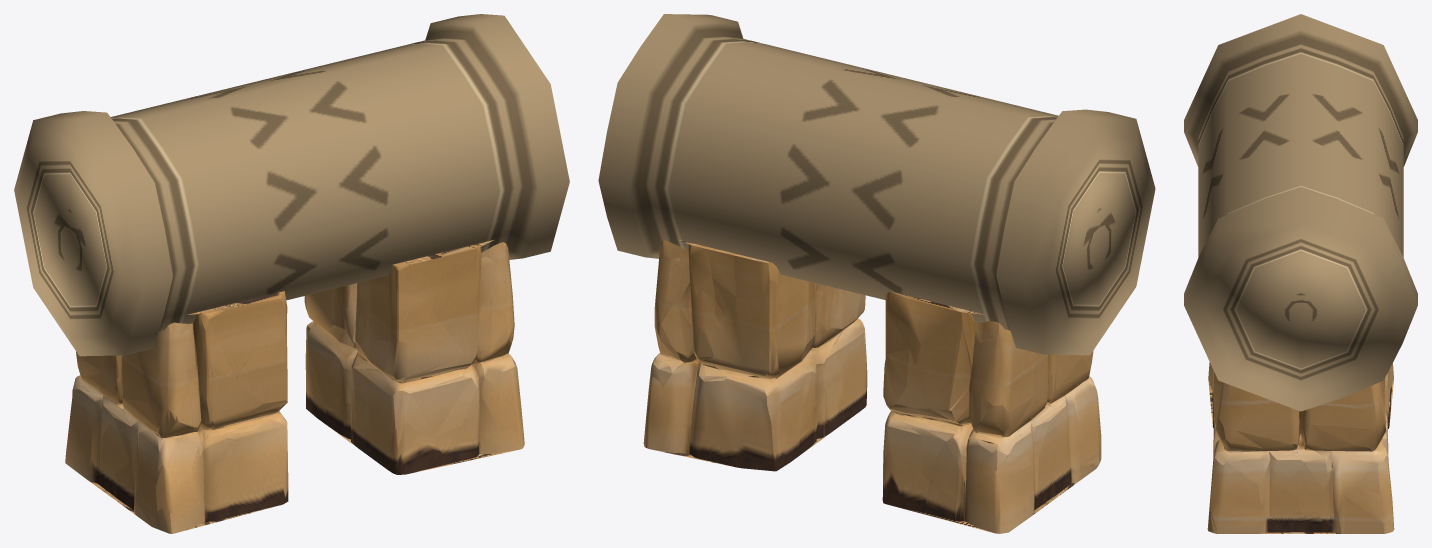
The model's file is cover_half_temple_v1.glb.
3 views of the same model, side by side, from view 1: azimuth 30°, elevation 25°; view 2: azimuth 150°, elevation 25°; view 3: azimuth 270°, elevation 25° (orthographic). The views are drawn at different scales.
Size of the model in its own units: 0.96 by 0.8 by 0.49.
Materials: 2 (2 with a texture image).
